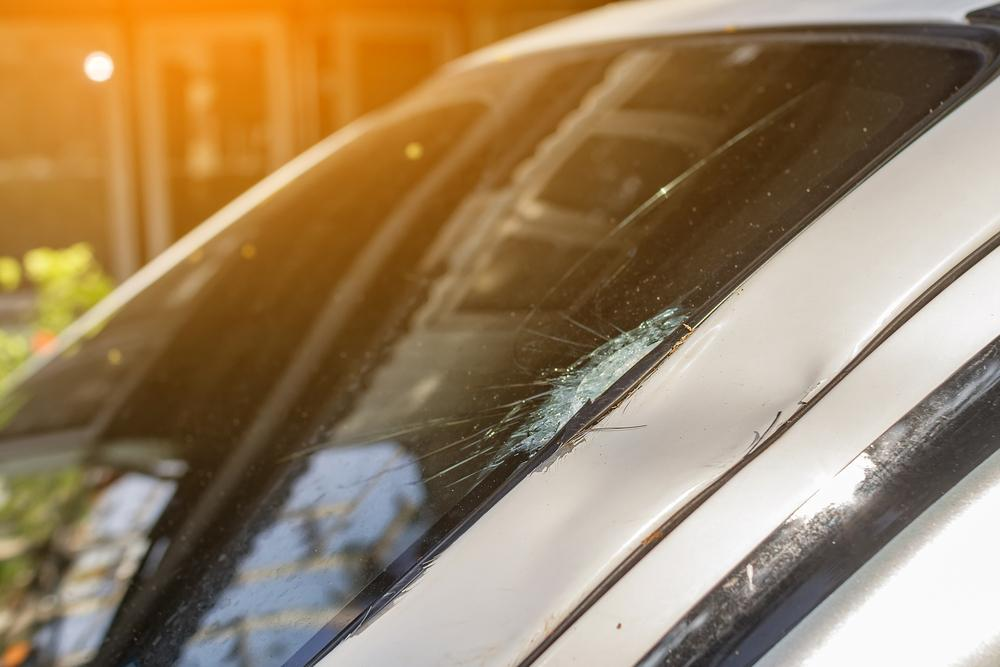dent: (447, 255, 832, 651)
glass shatter: (0, 38, 987, 667)
